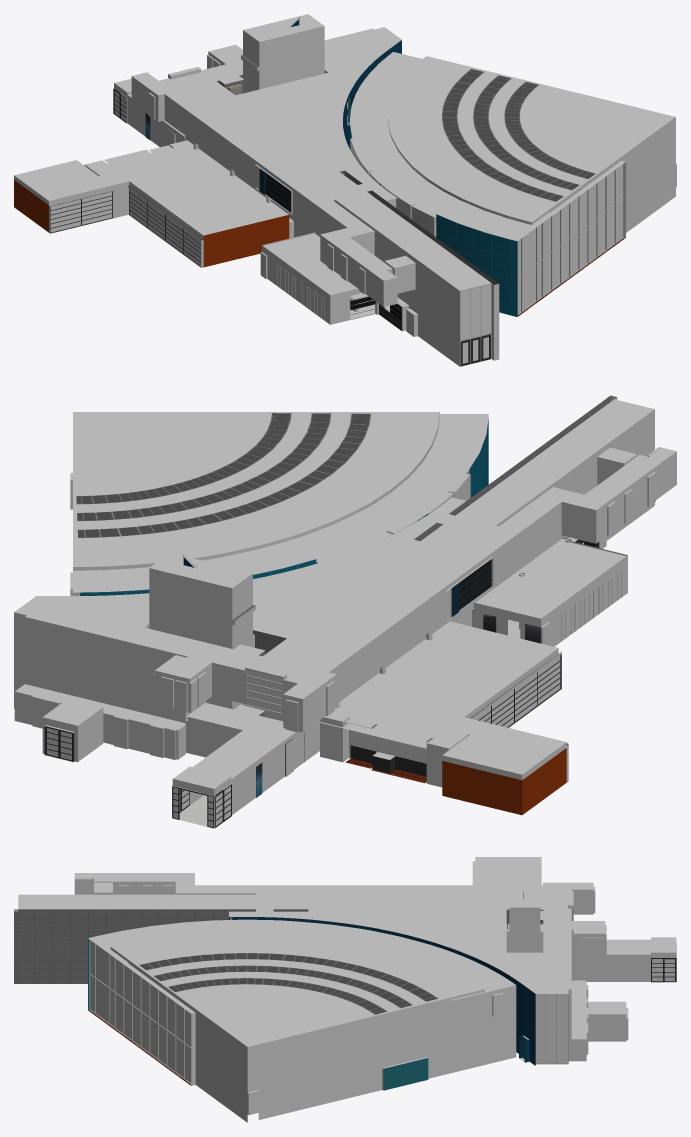
The model's file is paarakennus.fbx.
3 views of the same model, one above another, from view 1: azimuth 30°, elevation 25°; view 2: azimuth 150°, elevation 25°; view 3: azimuth 270°, elevation 25° (orthographic). The views are drawn at different scales.
Visible parts, largest first — view 1: Katto, PaaRakennus_seinat, Sali_Katto.002, Sali_Katto, Sali_Ikkunat, Sali_Katto_Ritilat, Aula_Ikkunat2, PaaRakennus_seinat1, Aula_Ikkunat4, PaaRakennus_seinat2, Lasiseina.001, Alakerta_Lattia (+2 smaller); view 2: Katto, PaaRakennus_seinat, Sali_Katto.002, Sali_Katto, Sali_Katto_Ritilat, PaaRakennus_seina4, Aula_Ikkunat2, PaaRakennus_seinat2, Ikkuna, PaaRakennus_seinat1, Alakerta_Lattia, Lasiseina.001 (+2 smaller); view 3: PaaRakennus_seinat, Katto, Sali_Katto.002, PaaRakennus_seinat2, Sali_Ikkunat, Sali_Katto, Sali_Katto_Ritilat, PaaRakennus_seinat3, AulaLasit.
Part boxes in pixels (x1,y1,x2,y2): Katto: [14, 27, 491, 314]; PaaRakennus_seinat: [14, 14, 676, 366]; Sali_Katto.002: [388, 56, 675, 222]; Sali_Katto: [350, 52, 550, 239]; Sali_Ikkunat: [517, 163, 624, 315]; Sali_Katto_Ritilat: [441, 69, 595, 201]; Aula_Ikkunat2: [50, 186, 202, 267]; PaaRakennus_seinat1: [349, 121, 517, 316]; Aula_Ikkunat4: [460, 283, 491, 340]; PaaRakennus_seinat2: [216, 70, 498, 333]; Lasiseina.001: [259, 168, 291, 212]; Alakerta_Lattia: [51, 102, 625, 366]; Katto: [14, 399, 676, 788]; PaaRakennus_seinat: [14, 395, 676, 828]; Sali_Katto.002: [73, 412, 439, 566]; Sali_Katto: [73, 414, 488, 592]; Sali_Katto_Ritilat: [76, 413, 371, 537]; PaaRakennus_seina4: [343, 717, 432, 776]; Aula_Ikkunat2: [470, 655, 561, 727]; PaaRakennus_seinat2: [144, 396, 610, 716]; Ikkuna: [245, 668, 284, 714]; PaaRakennus_seinat1: [80, 418, 488, 595]; Alakerta_Lattia: [179, 542, 583, 826]; Lasiseina.001: [452, 559, 492, 616]; PaaRakennus_seinat: [14, 861, 676, 1122]; Katto: [18, 857, 676, 1039]; Sali_Katto.002: [111, 931, 484, 1046]; PaaRakennus_seinat2: [14, 909, 543, 983]; Sali_Ikkunat: [89, 939, 191, 1084]; Sali_Katto: [93, 919, 515, 1000]; Sali_Katto_Ritilat: [139, 953, 437, 1014]; PaaRakennus_seinat3: [229, 917, 535, 1065]; AulaLasit: [535, 994, 567, 1063].
Bounding box in the file's own units: 48.46 × 11.87 × 57.47.
